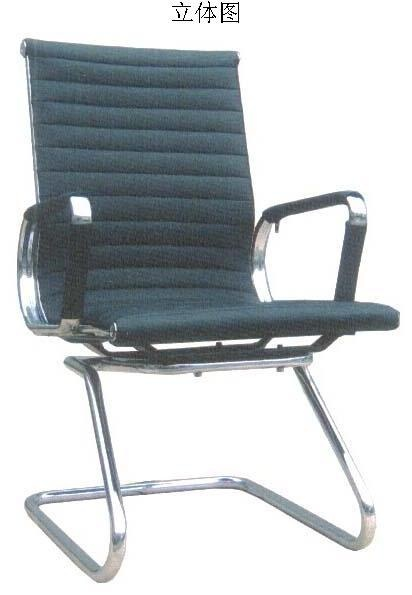obstacle: (18, 39, 398, 581)
